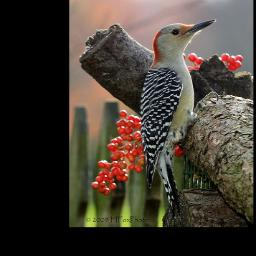Woodpecker: (140, 15, 221, 227)
